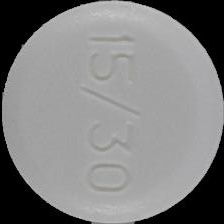52544-279: (0, 0, 224, 224)
